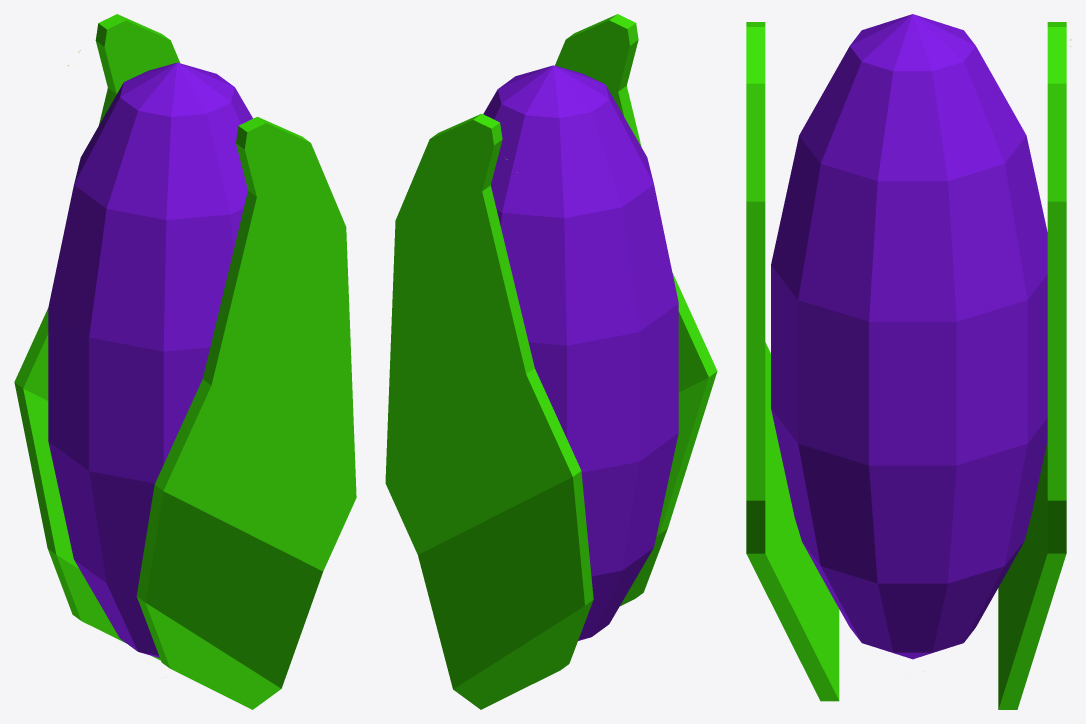
File: maispaarss.fbx
3 renders of one model, left to right at view 1: azimuth 30°, elevation 25°; view 2: azimuth 150°, elevation 25°; view 3: azimuth 270°, elevation 25°, orthographic. The views are drawn at different scales.
Parts seen in each view (by area): view 1: Plane; view 2: Plane; view 3: Plane.
Part boxes in pixels (left/top/right/bottom): Plane: left=14, top=14, right=356, bottom=709; Plane: left=385, top=14, right=717, bottom=709; Plane: left=746, top=14, right=1070, bottom=709.
Bounding box in the file's own units: 20.26 × 56.54 × 24.44.
